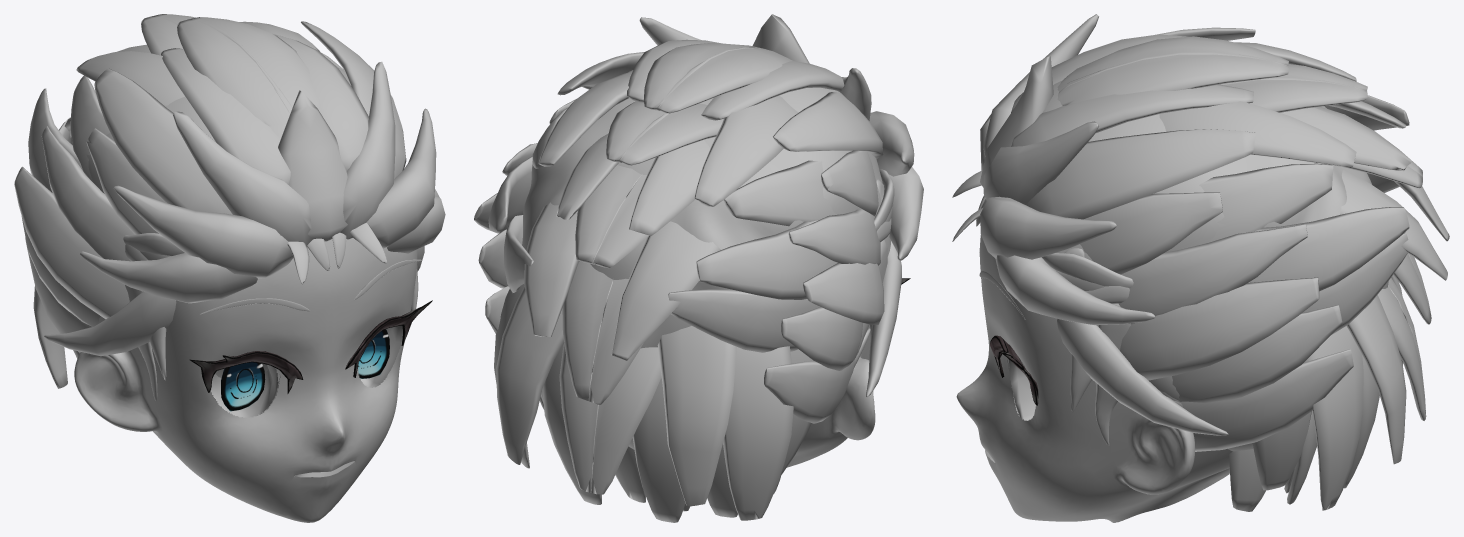
The model's file is male_hair_spiky 2.glb.
The picture shows the model from 3 angles, left to right: view 1: azimuth 30°, elevation 25°; view 2: azimuth 150°, elevation 25°; view 3: azimuth 270°, elevation 25°; orthographic projection. The views are drawn at different scales.
Visible parts, largest first — view 1: face_0, hair_27, hair_31, hair_0, hair_14, hair_16, hair_9, hair_28, hair_30, hair_25, hair_29, hair_10 (+17 smaller); view 2: hair_22, hair_21, hair_39, hair_8, hair_10, hair_23, hair_19, hair_24, hair_18, hair_16, hair_11, hair_1 (+20 smaller); view 3: face_0, hair_0, hair_9, hair_16, hair_25, hair_23, hair_13, hair_14, hair_10, hair_12, hair_26, hair_31 (+24 smaller).
Part boxes in pixels (x1,y1,x2,y2): face_0: [74, 238, 417, 522]; hair_27: [114, 108, 436, 278]; hair_31: [173, 61, 395, 247]; hair_0: [94, 21, 406, 214]; hair_14: [161, 33, 369, 184]; hair_16: [177, 17, 319, 126]; hair_9: [14, 166, 129, 319]; hair_28: [80, 189, 445, 303]; hair_30: [278, 90, 347, 241]; hair_25: [41, 126, 134, 261]; hair_29: [44, 246, 424, 356]; hair_10: [76, 21, 320, 105]; hair_22: [496, 286, 736, 506]; hair_21: [524, 202, 721, 360]; hair_39: [522, 59, 882, 449]; hair_8: [494, 284, 793, 520]; hair_10: [538, 71, 798, 206]; hair_23: [488, 156, 837, 299]; hair_19: [559, 343, 661, 494]; hair_24: [504, 215, 820, 352]; hair_18: [562, 261, 643, 404]; hair_16: [643, 42, 791, 113]; hair_11: [556, 133, 710, 235]; hair_1: [542, 344, 685, 522]; face_0: [956, 235, 1232, 522]; hair_0: [1026, 27, 1255, 219]; hair_9: [1120, 277, 1319, 380]; hair_16: [1057, 36, 1288, 105]; hair_25: [1118, 224, 1307, 324]; hair_23: [1248, 95, 1409, 291]; hair_13: [1180, 349, 1353, 451]; hair_14: [1011, 34, 1253, 146]; hair_10: [1159, 42, 1356, 166]; hair_12: [1172, 305, 1342, 402]; hair_26: [1080, 192, 1222, 274]; hair_31: [983, 14, 1098, 205].
Bounding box in the file's own units: 0.2915 × 0.3419 × 0.3301.
Materials: 45 (2 with a texture image).
